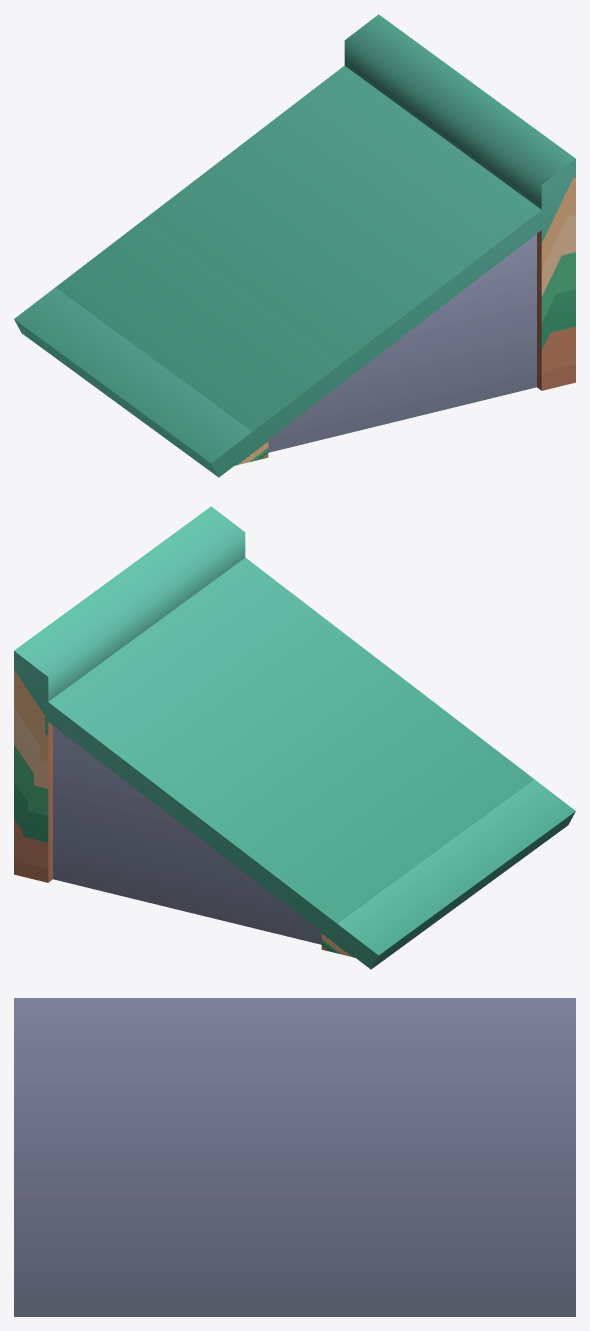
File: roof.glb
3 views of the same model, one above another, from view 1: azimuth 30°, elevation 25°; view 2: azimuth 150°, elevation 25°; view 3: azimuth 270°, elevation 25° (orthographic). The views are drawn at different scales.
Visible parts, largest first — view 1: roof; view 2: roof; view 3: roof.
Part boxes in pixels (left/top/right/bottom): roof: left=14, top=14, right=575, bottom=477; roof: left=14, top=506, right=575, bottom=969; roof: left=14, top=998, right=575, bottom=1316.
Bounding box in the file's own units: 1.07 × 0.6483 × 1.
1 material, 1 textured.
